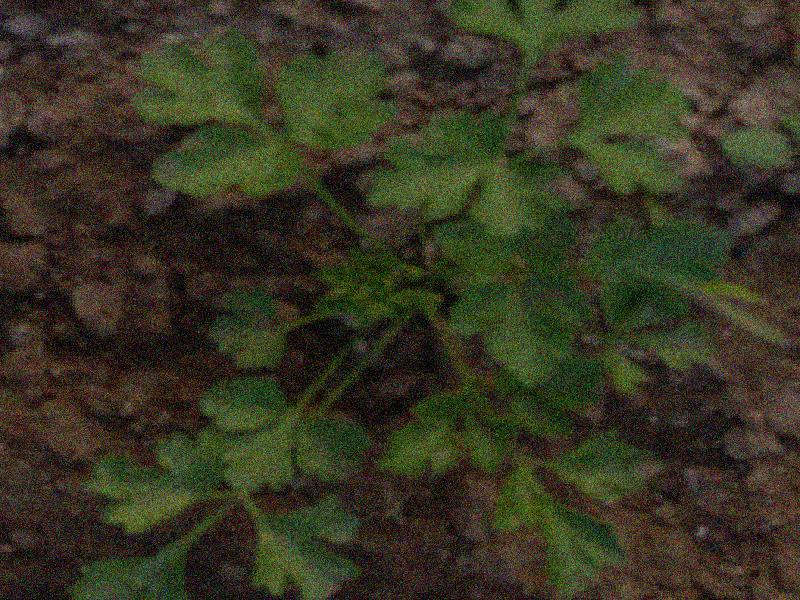radish: (70, 0, 737, 600)
